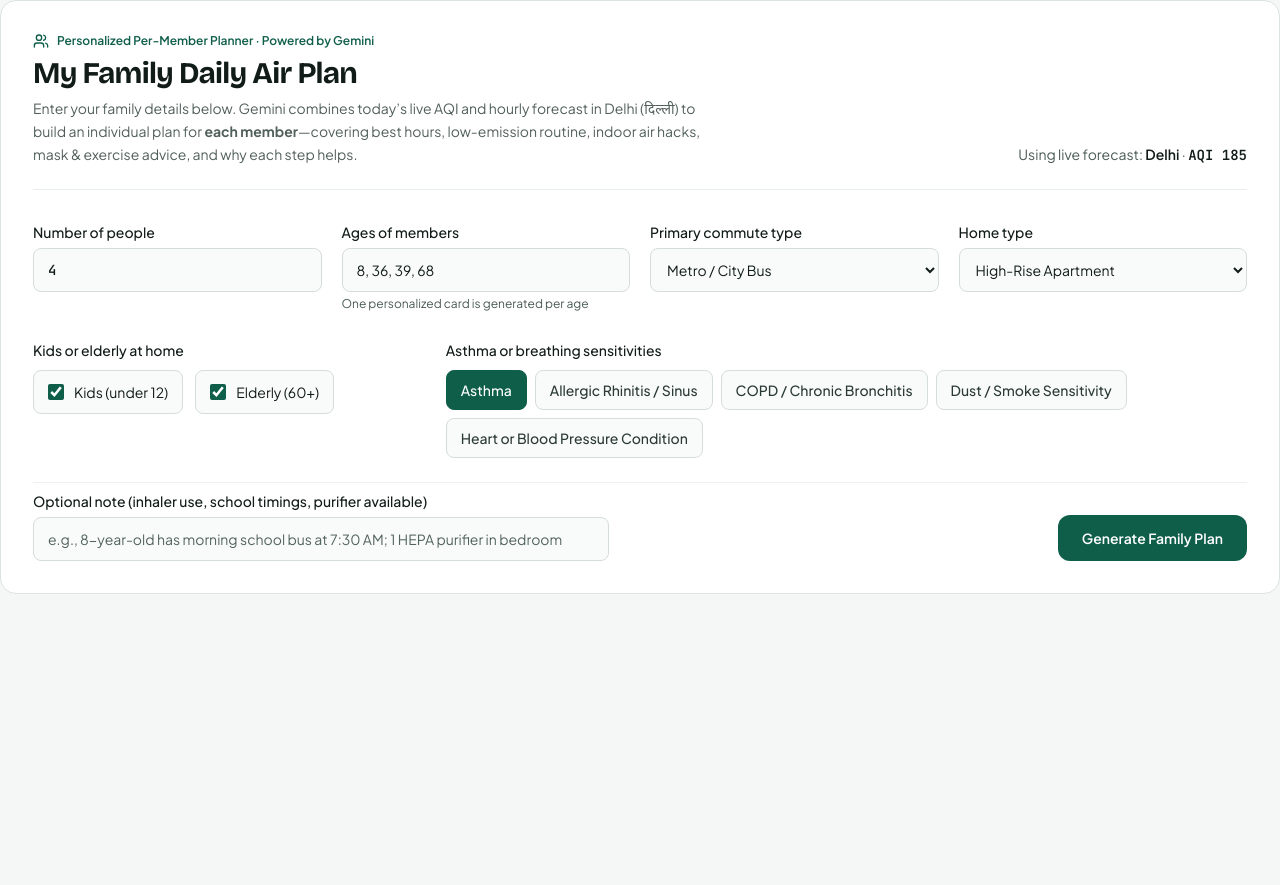
FamilyPlanSection — My Family form and plan display › validates inputs, submits profile to mocked Gemini API, and renders per-member cards with Why this helps
The width and height of the screenshot is (1280, 885).
expect the number field labelled "Number of people" is shown: met, box [33,248,322,292]
expect the dropdown labelled "Primary commute type" is shown: met, box [650,248,938,292]
Note: Validation check: empty ages blocks submission and shows alert
Clear the field labelled "Ages of members" at [486, 270], box [342,248,630,292]
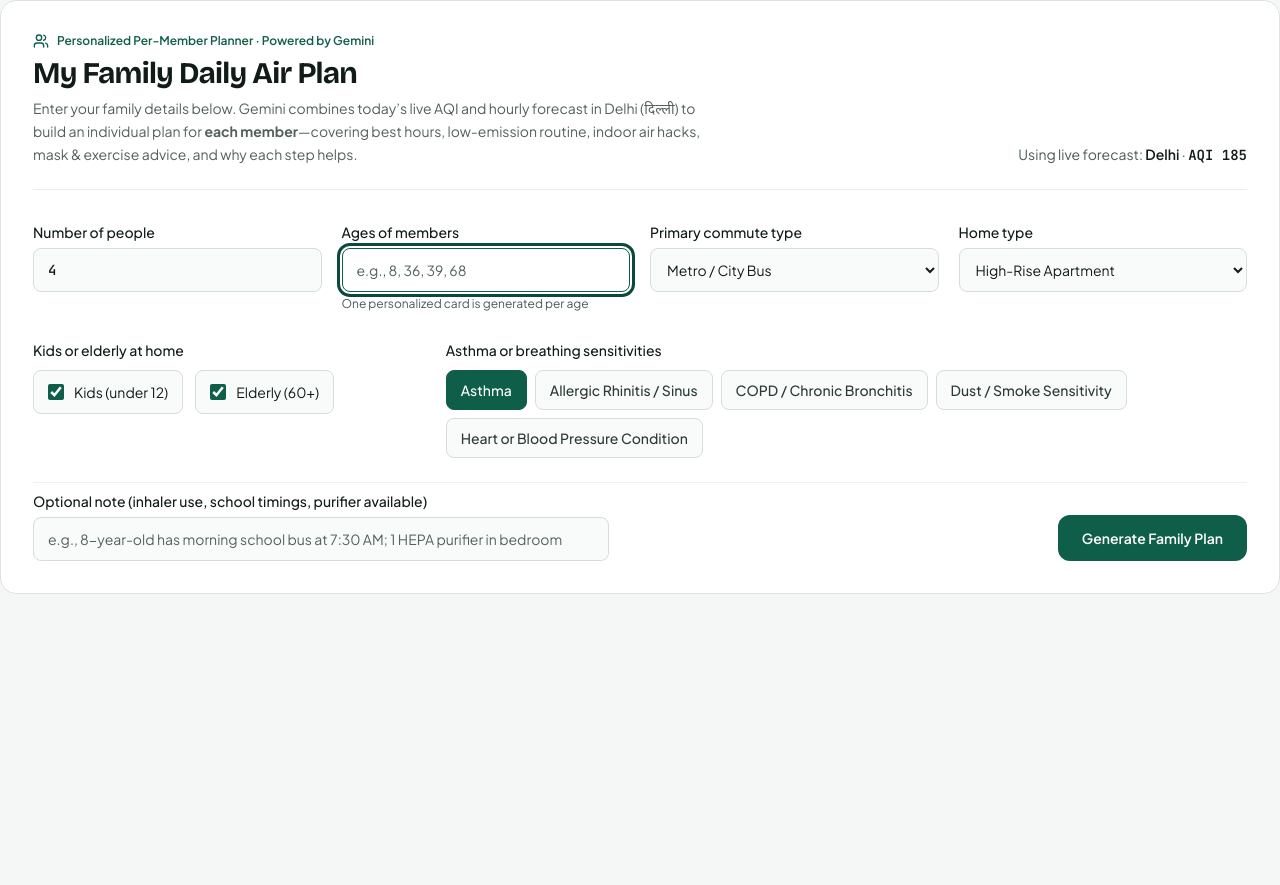
Click the button "Generate Family Plan" at [1152, 538], box [1058,515,1247,561]
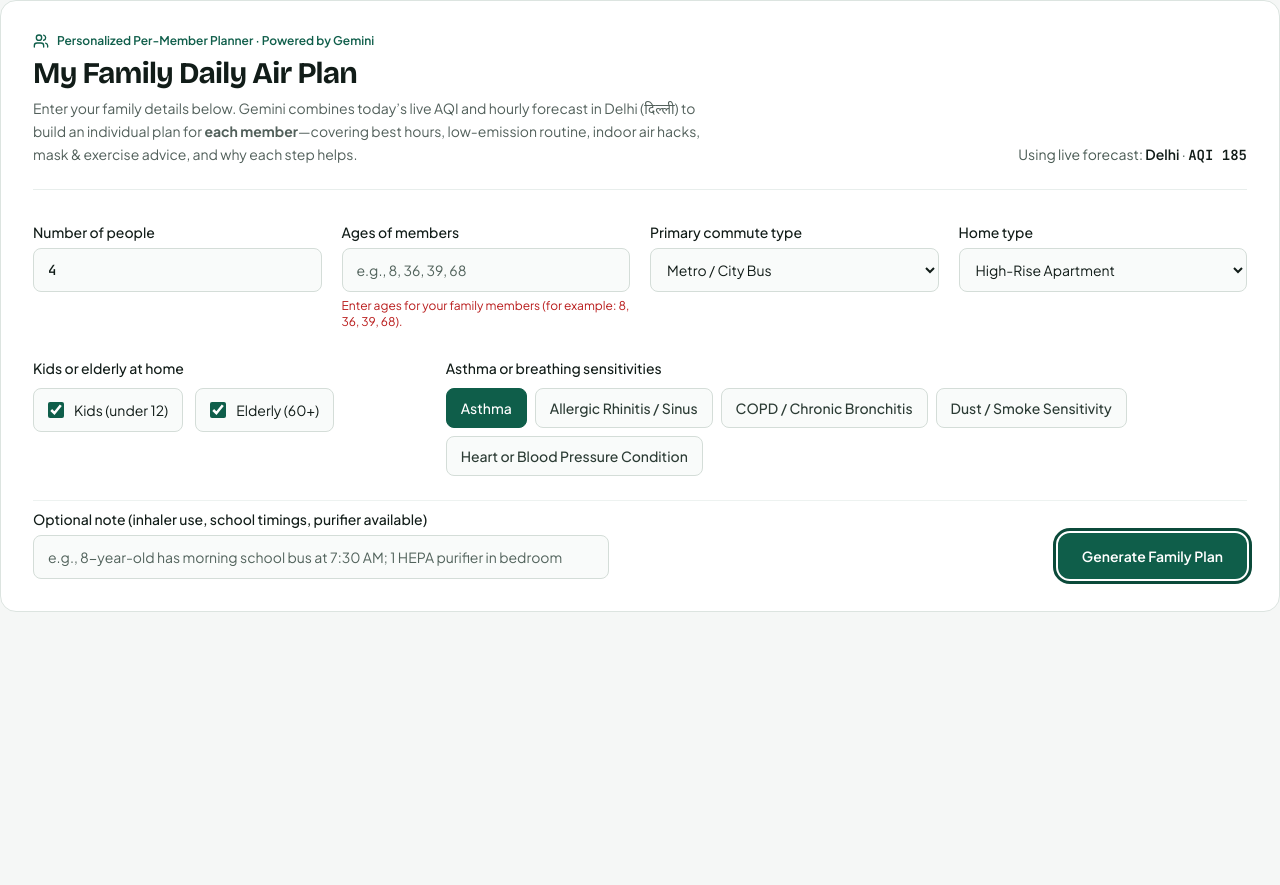
expect the message shows "Enter ages for your family members": met, box [342,298,629,329]
Note: Enter valid ages and submit
Type "8, 68" into the field labelled "Ages of members" at [486, 270], box [342,248,630,292]
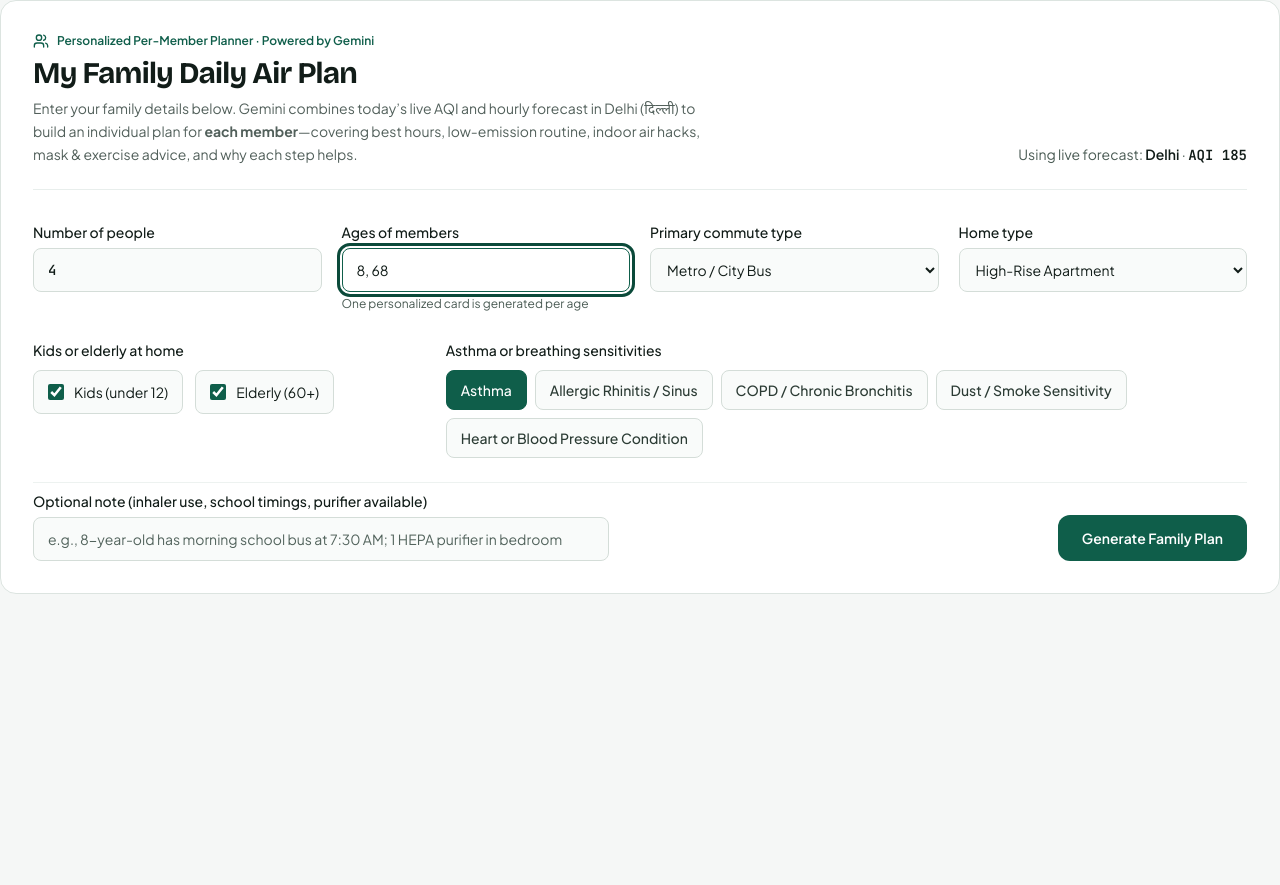
Click the button "Generate Family Plan" at [1152, 538], box [1058,515,1247,561]
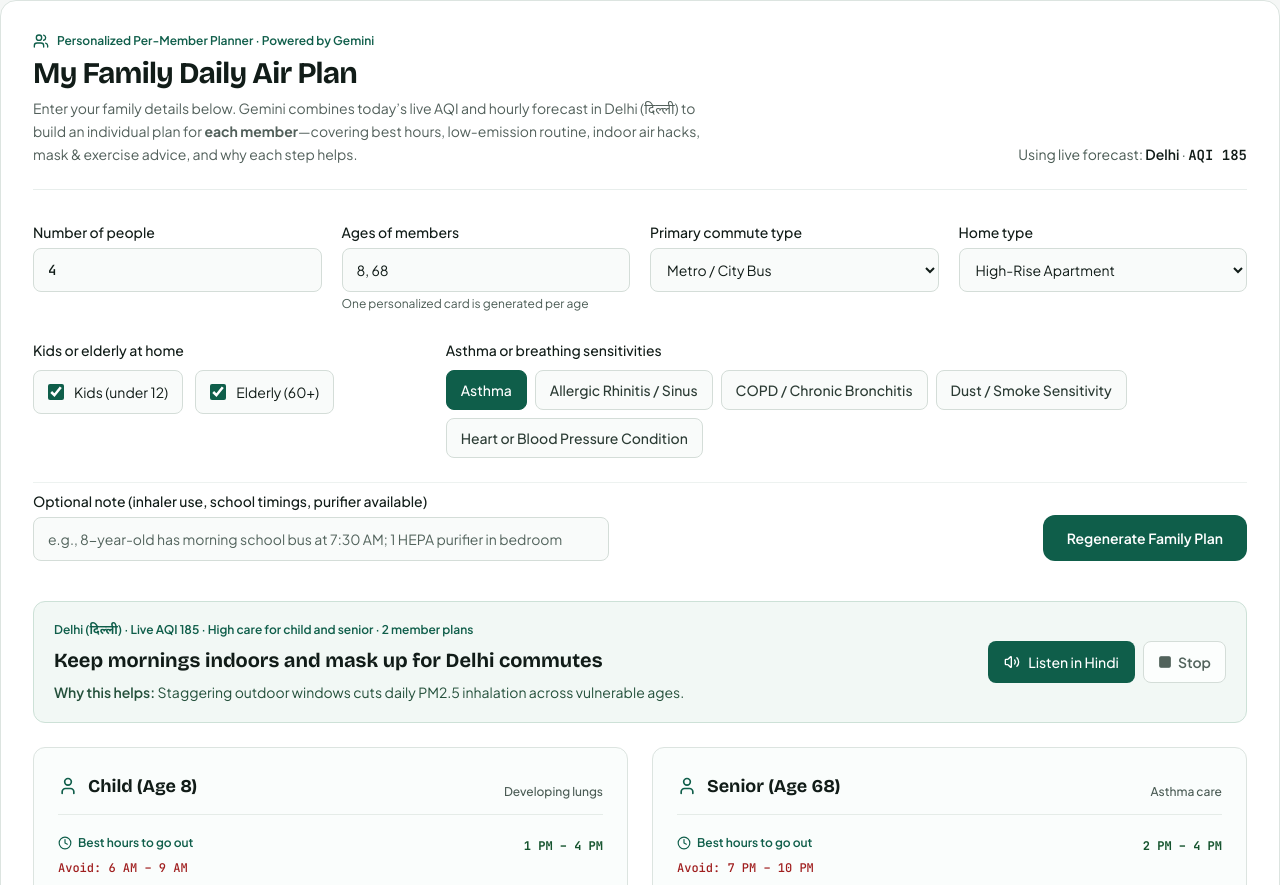
expect the heading "Keep mornings indoors and mask up for Delhi commutes" is shown: met, box [54,646,684,674]
expect the heading "Child (Age 8)" is shown: met, box [88,772,197,800]
expect the heading "Senior (Age 68)" is shown: met, box [707,772,840,800]
